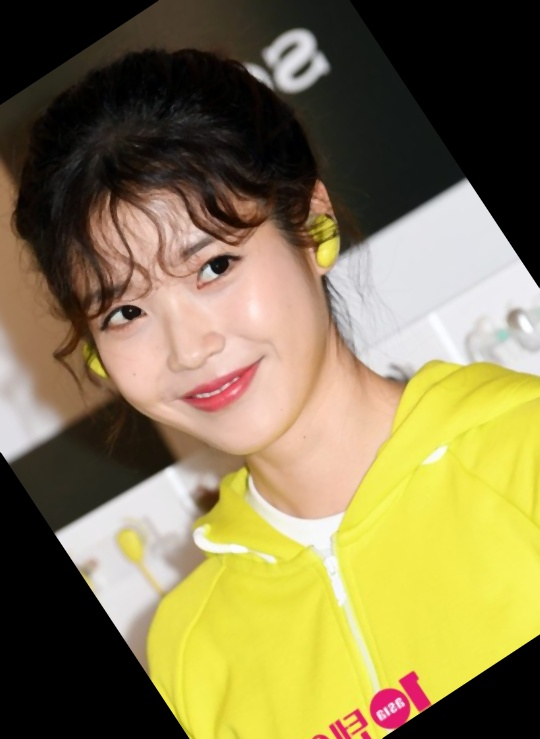earphone: (273, 177, 366, 279)
